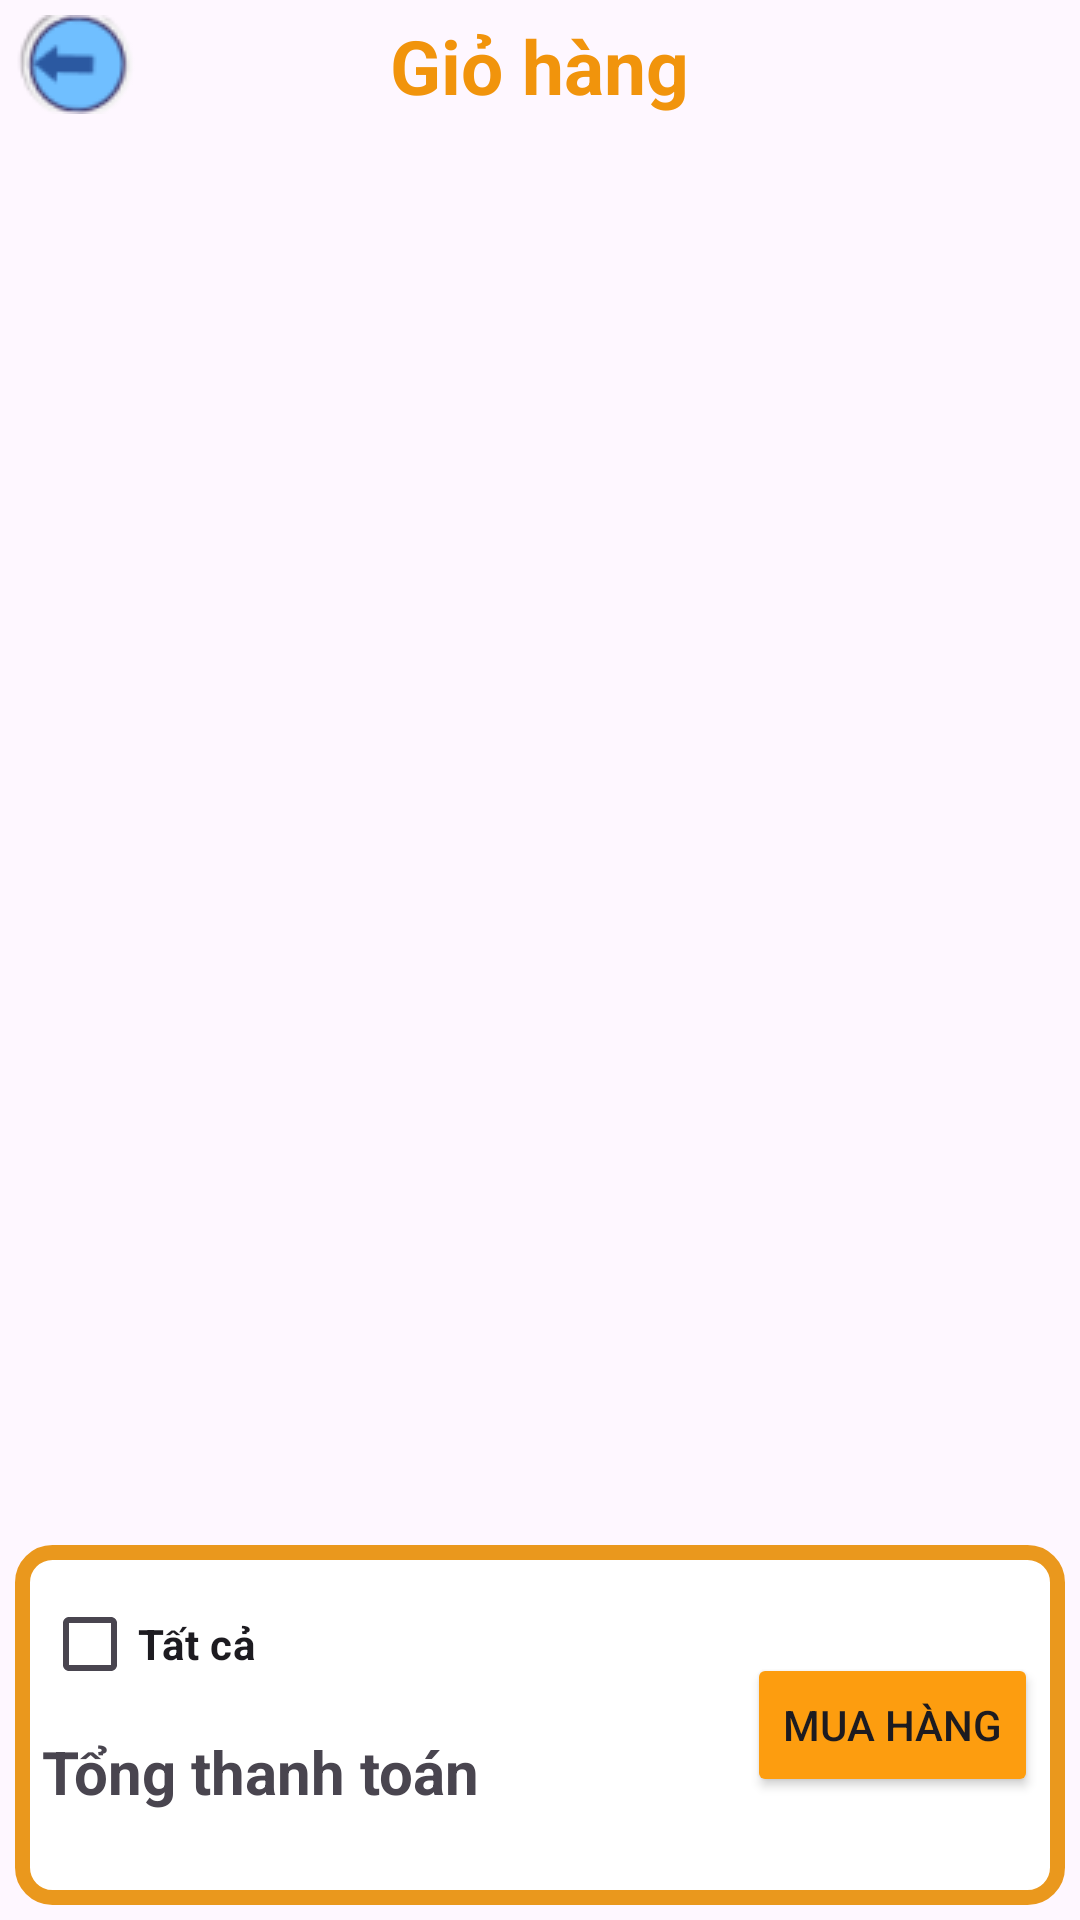

Named icons in this screenshot (1080px x 1920px) and their centers, point (x, y):
thoat: point (74, 64)
